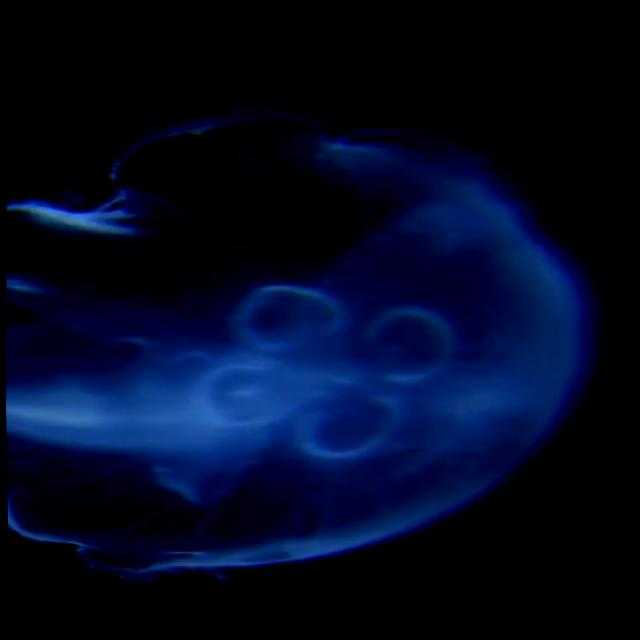Moon-jellyfish: (4, 108, 580, 578)
